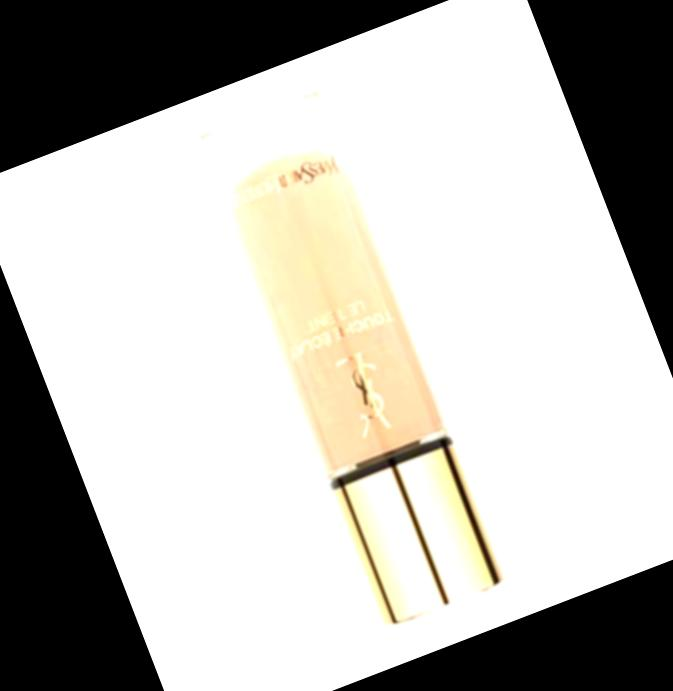cosmetic: (185, 78, 511, 634)
